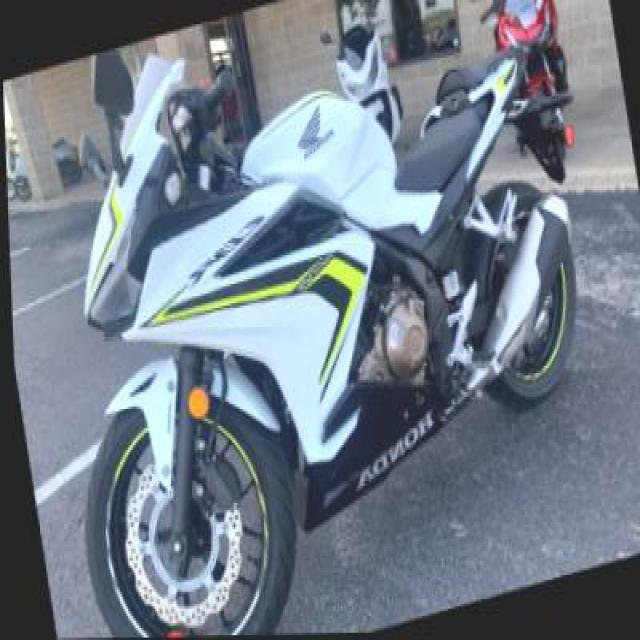CBR500R: (10, 0, 635, 638)
